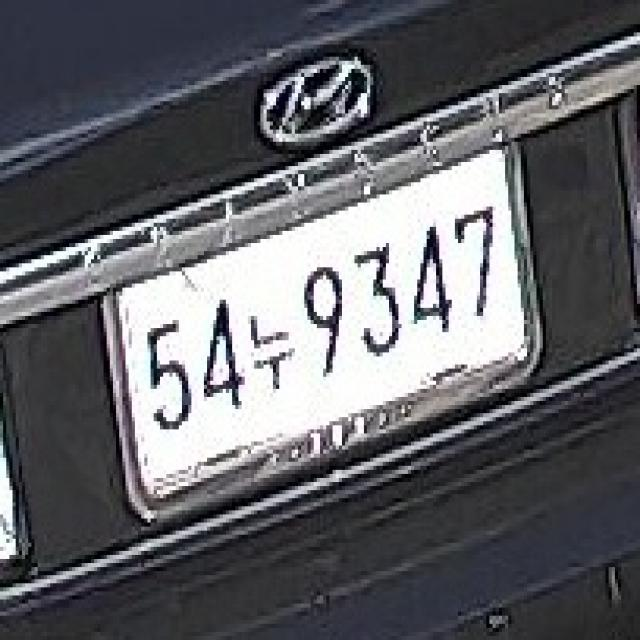3: (354, 227, 402, 377)
4: (408, 202, 455, 368), (204, 280, 245, 430)
7: (452, 186, 502, 328)
9: (295, 251, 351, 389)
license_plate: (98, 130, 536, 538), (138, 300, 201, 437)
nu: (248, 292, 295, 389)
